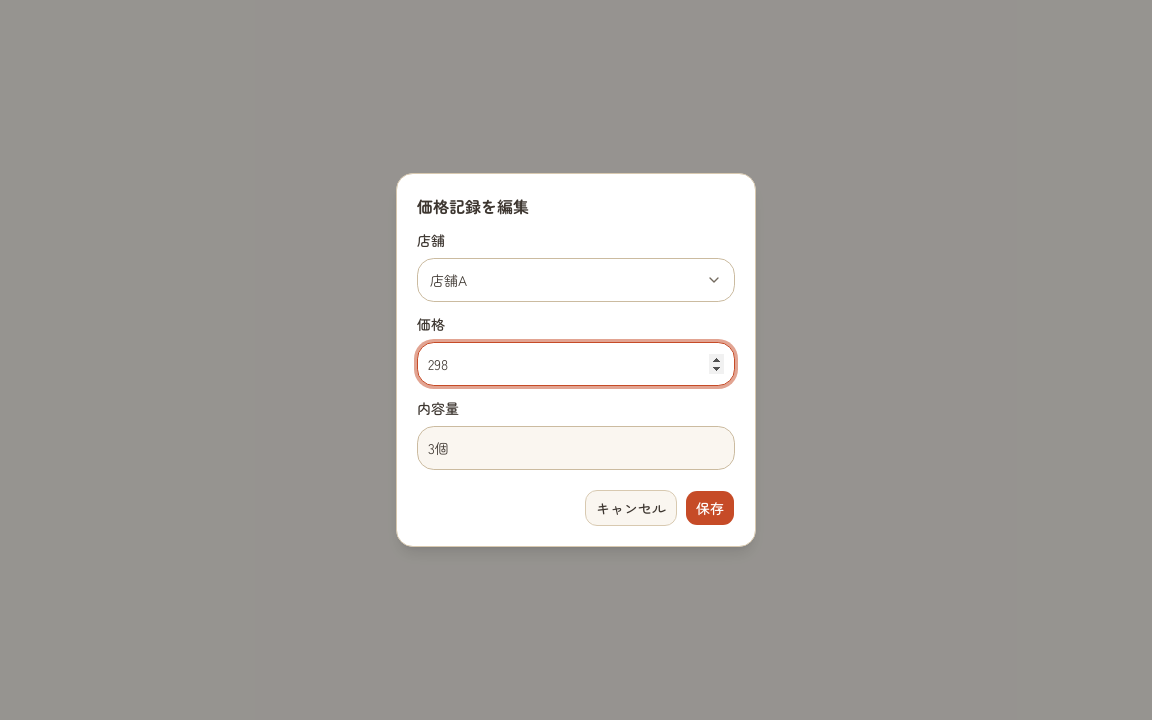
Test: PriceRecordEditDialog › PRED-05: PriceRecordNotFoundError では削除済みメッセージを表示しダイアログを閉じて再取得する
Expected: the text "店舗A" is shown, left=430, top=270, right=467, bottom=290
Click the button "保存": click(710, 508) left=685, top=490, right=735, bottom=526
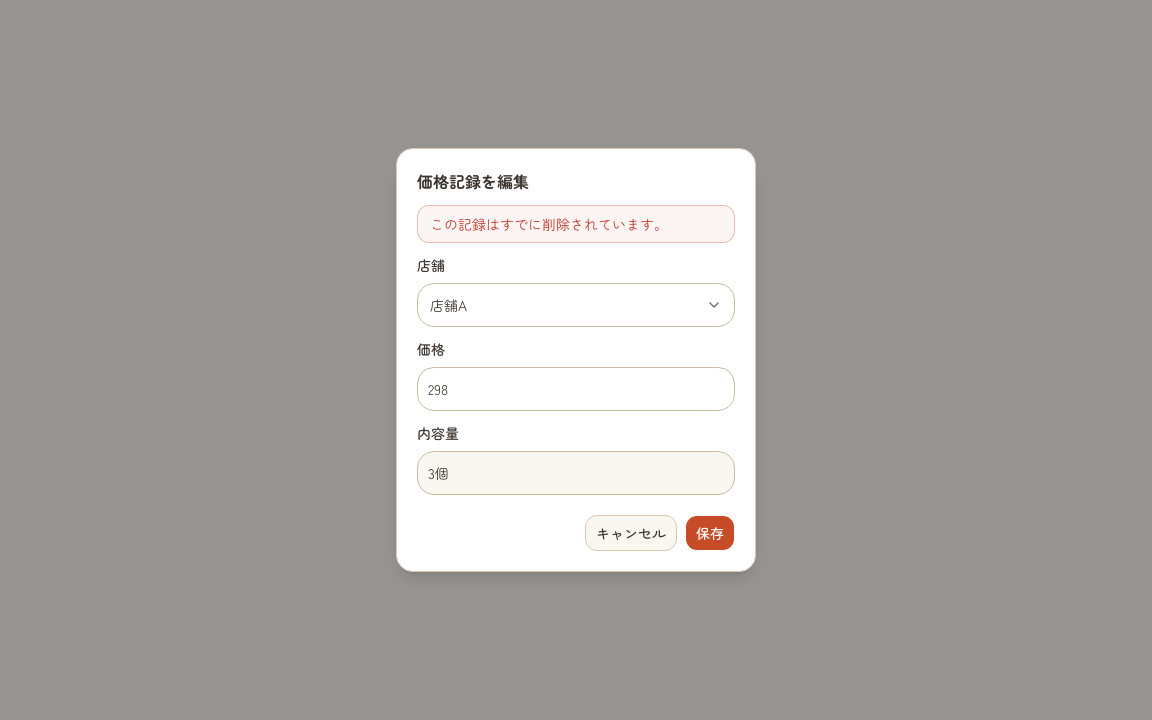
Expected: the text "この記録はすでに削除されています。" is shown, left=417, top=205, right=735, bottom=243
